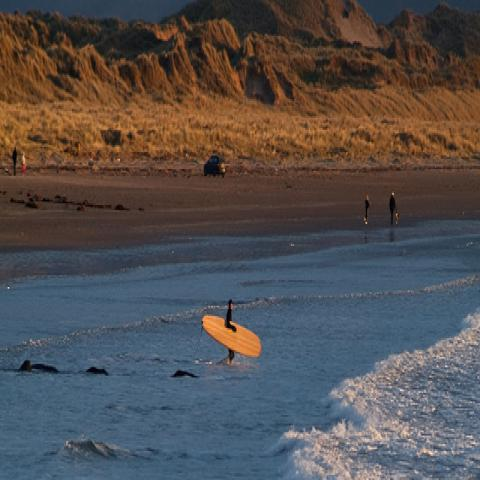car: (204, 155, 226, 178)
